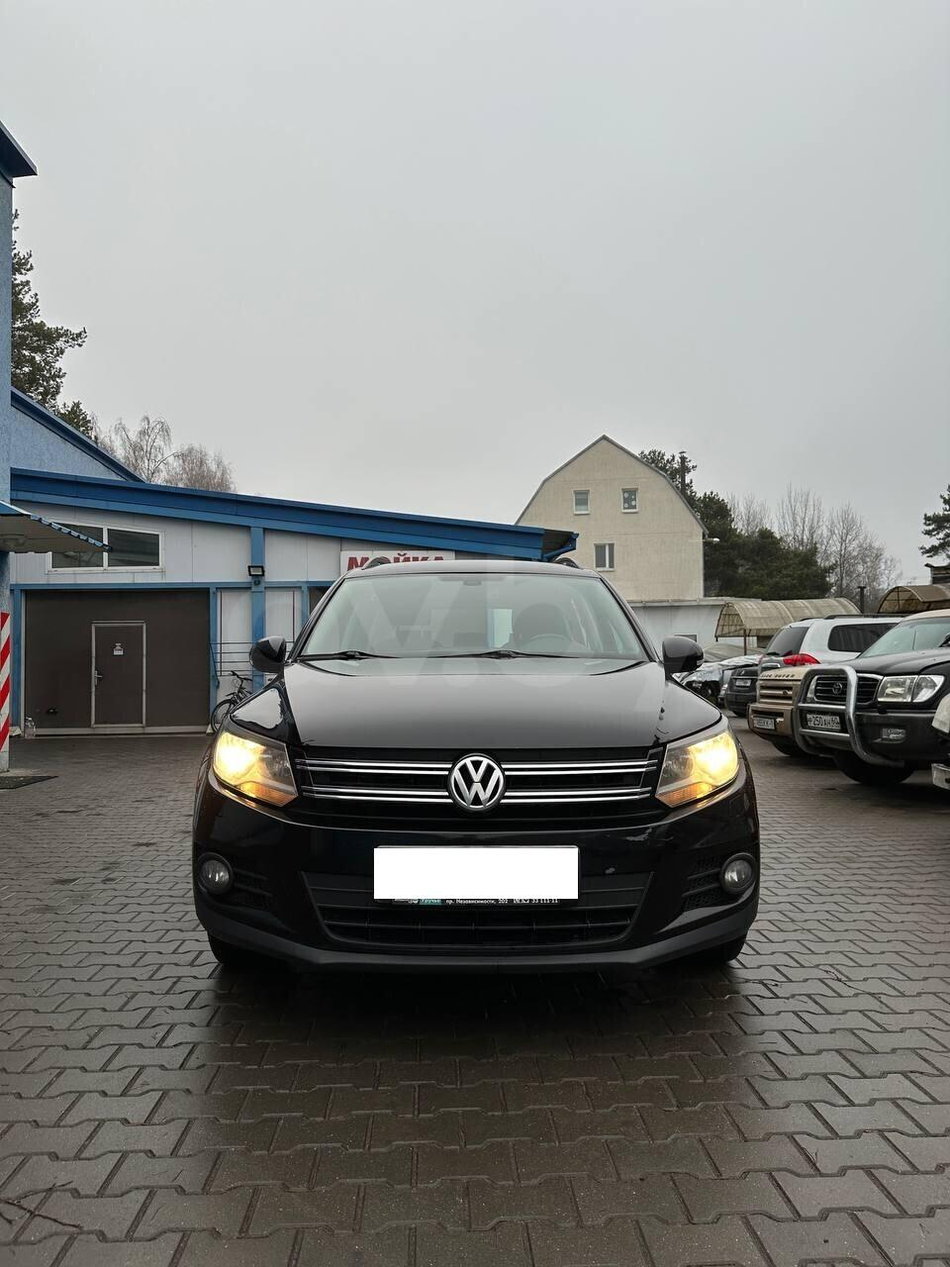Tiguan_2011-2018: (190, 561, 767, 1000)
